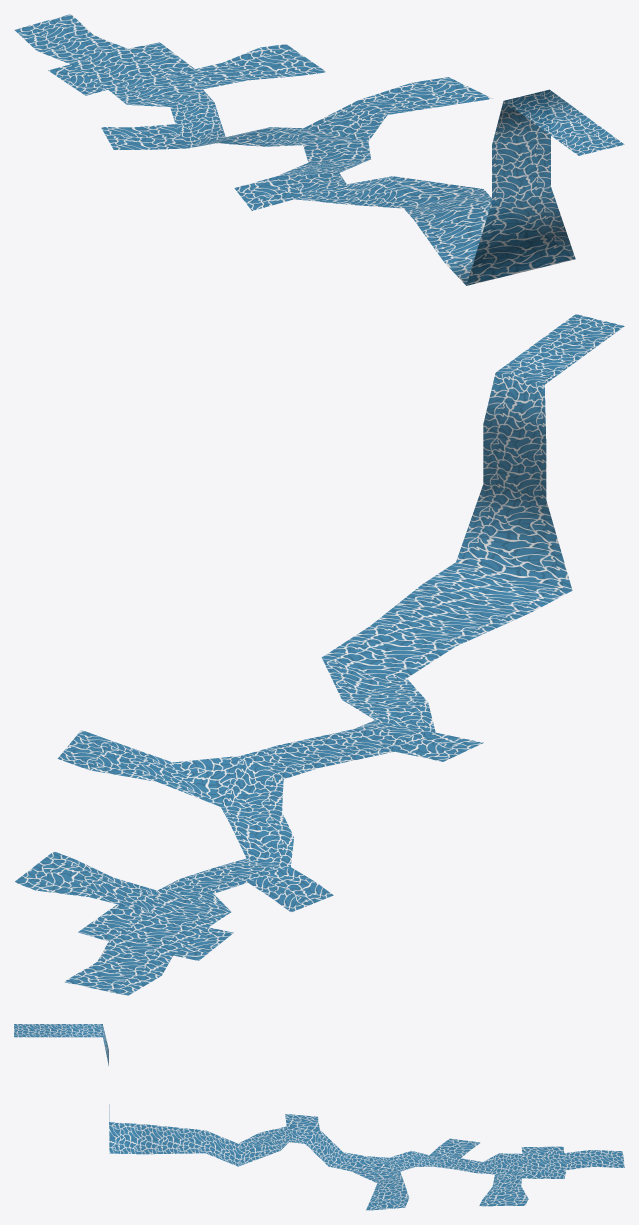
The model's file is Hondonada_Rio.fbx.
3 views of the same model, one above another, from view 1: azimuth 30°, elevation 25°; view 2: azimuth 150°, elevation 25°; view 3: azimuth 270°, elevation 25° (orthographic). The views are drawn at different scales.
Visible parts, largest first — view 1: Río; view 2: Río; view 3: Río.
Boxes of the visible parts, x1,y1,x2,y2 form: Río: [14, 14, 624, 285]; Río: [14, 314, 624, 995]; Río: [14, 1024, 624, 1210].
Size of the model in its own units: 4189 by 3113 by 12128.
